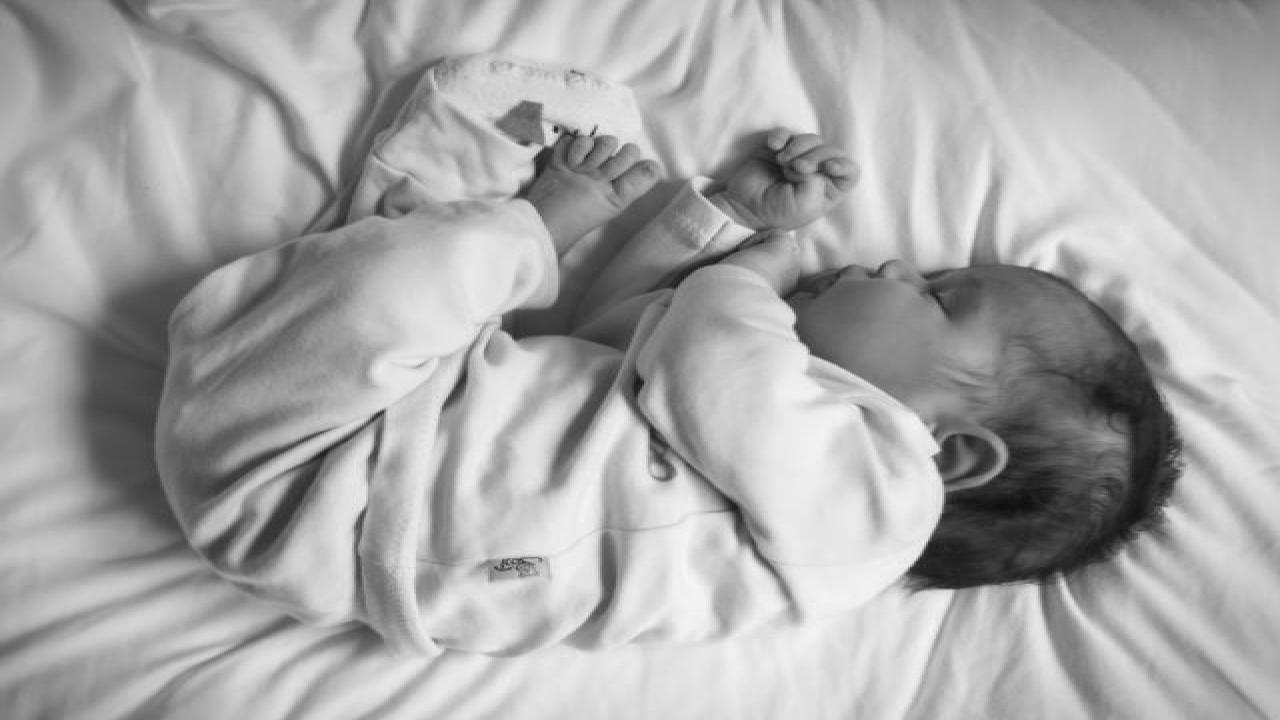hand: (715, 126, 860, 234), (696, 232, 800, 294)
